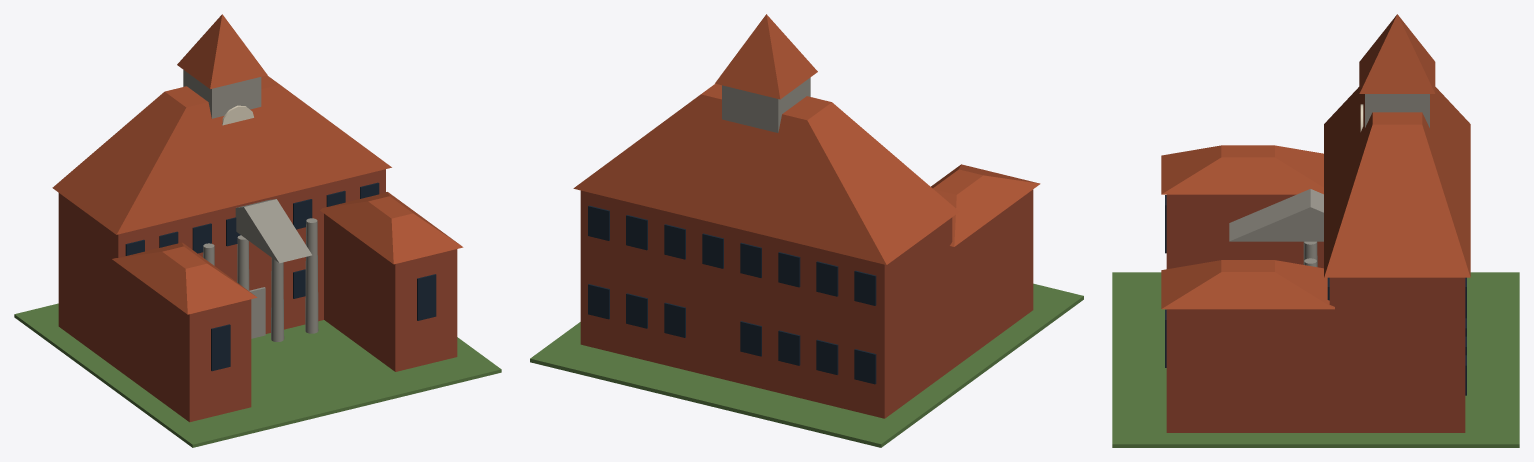
File: bld_special_university_a04.glb
The picture shows the model from 3 angles, left to right: view 1: azimuth 30°, elevation 25°; view 2: azimuth 150°, elevation 25°; view 3: azimuth 270°, elevation 25°; orthographic projection. The views are drawn at different scales.
Parts seen in each view (by area): view 1: body; view 2: body; view 3: body.
Part boxes in pixels (<box>): body: <box>14,14,501,447</box>; body: <box>530,14,1083,447</box>; body: <box>1112,14,1519,447</box>.
Size of what is drawn, in the model's own units: 15 by 14.15 by 15.
